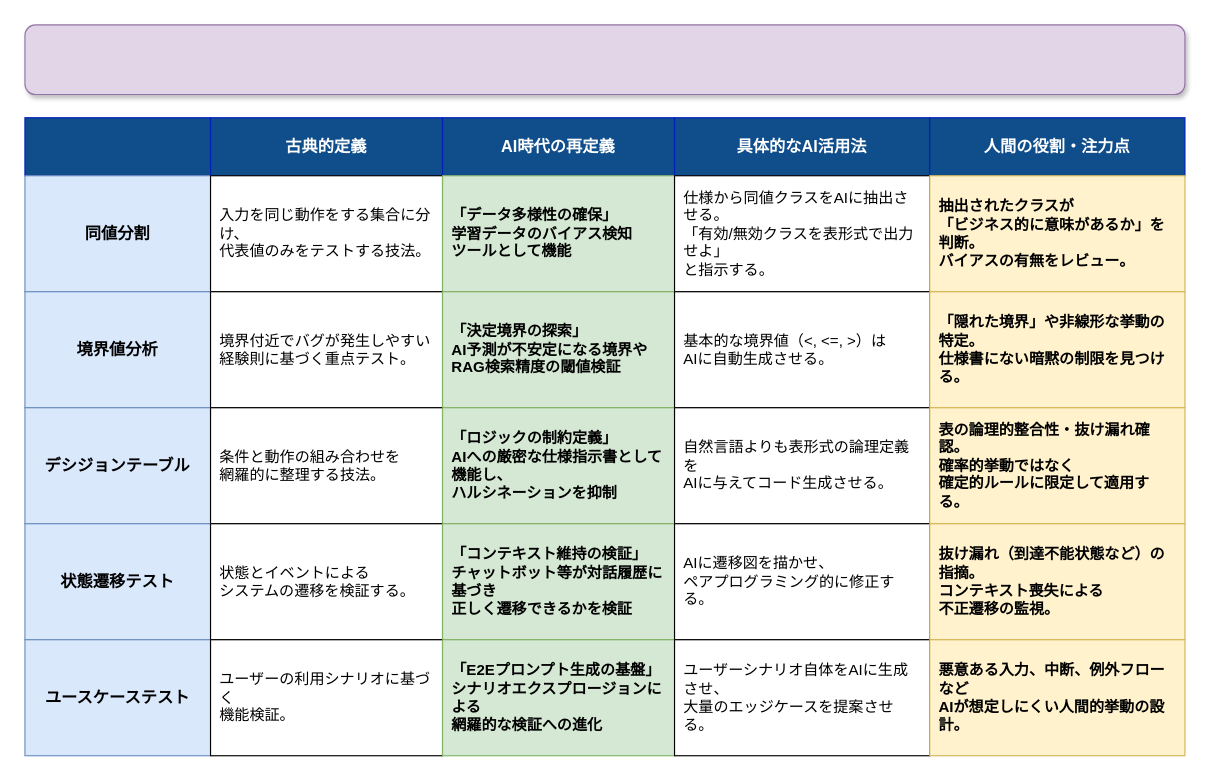
The diagram is 1212 pixels wide and 776 high, and some of its shapes have lost their labels. The shapes that lost their labels are listed below. From the top down, each one's centre as x and y in pixels, then its label:
At point (605, 61): "テスト工学比較マトリクス：古典的技法 vs AI活用(Claude Code)時代".
At point (117, 146): "テスト技法".
